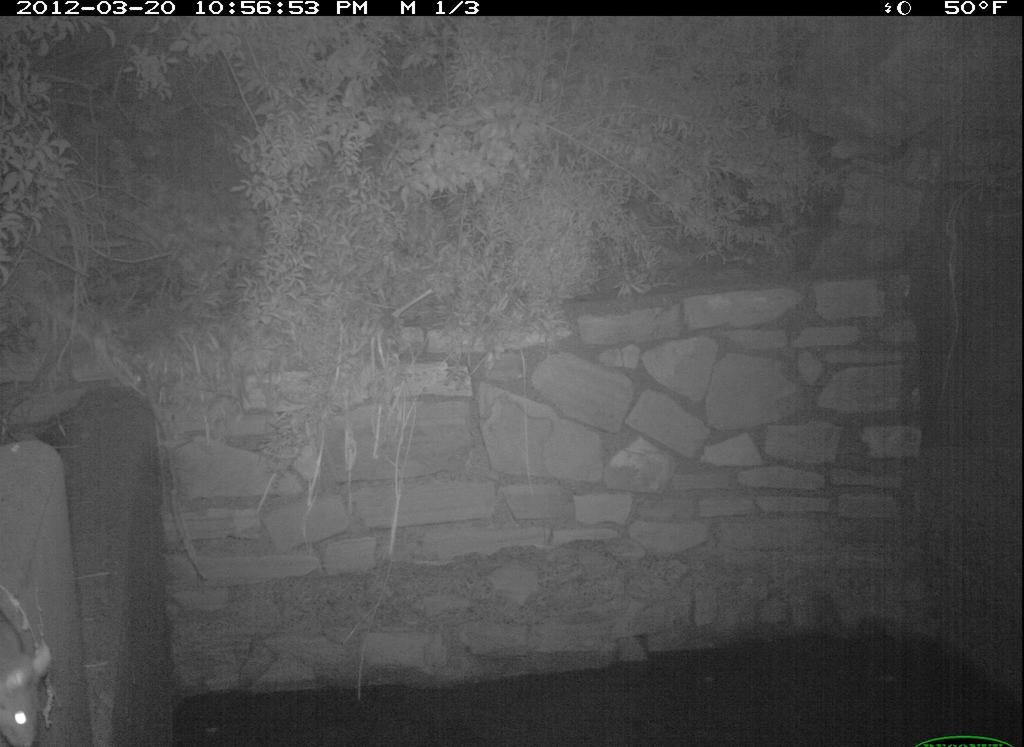rodent: (1, 606, 70, 747)
